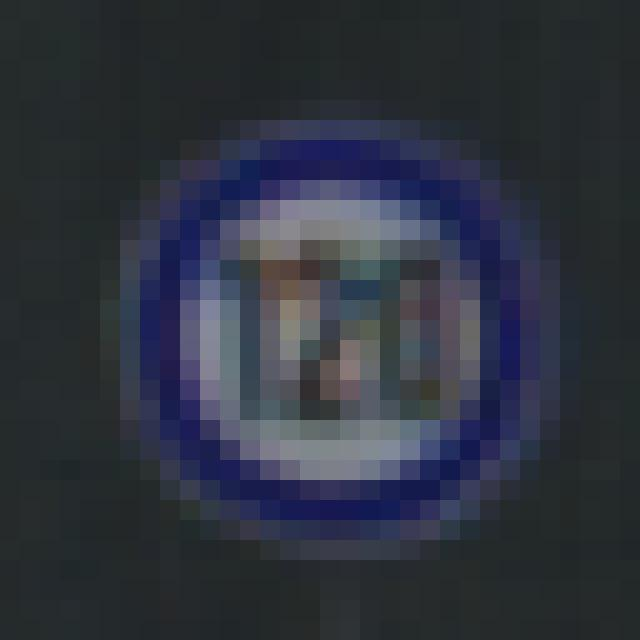SPEED LIMIT 120: (96, 105, 558, 558)
